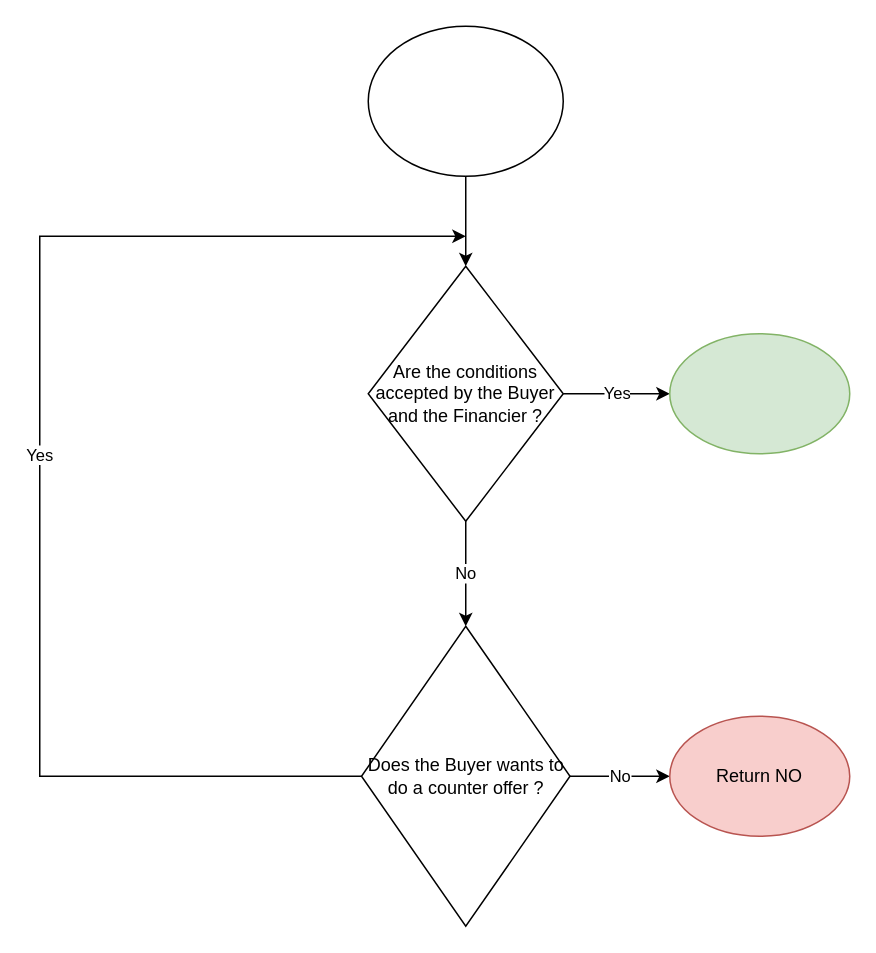
Some shapes in this 876 by 953 pixel diagram are drawn without their labels. Here are the shapes that lost their labels. From the top down, the centre of each, then its label:
At (465,100): "Financier proposes the conditions".
At (759,393): "Return YES".
